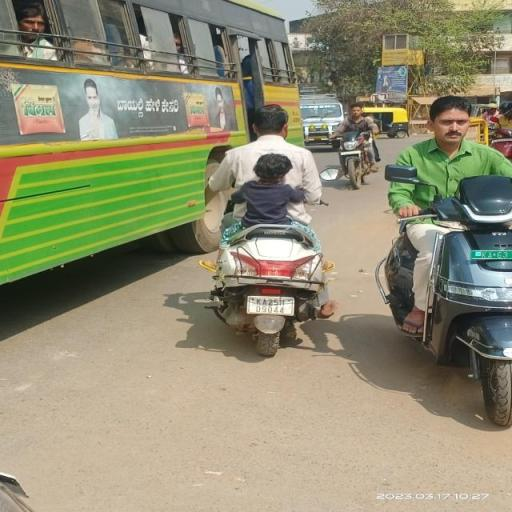bike: (188, 102, 342, 360)
numberplate: (248, 296, 294, 316)
withouthelmet: (255, 106, 285, 134), (257, 155, 287, 179)
